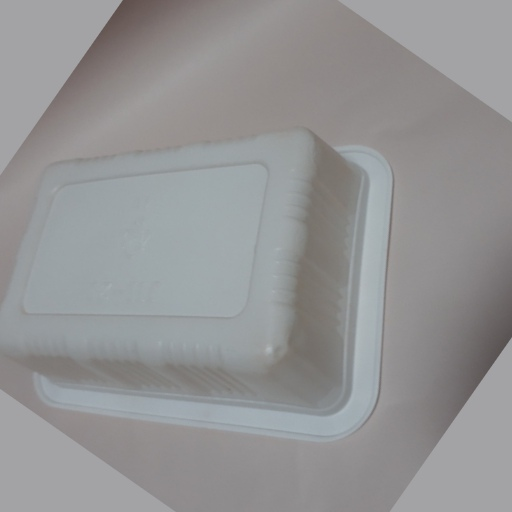Plastic_4: (1, 126, 397, 445)
